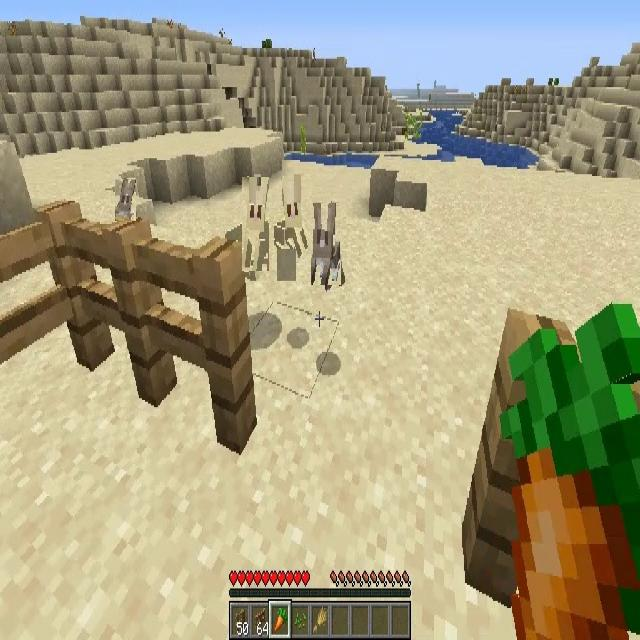rabbit: (242, 178, 269, 272), (311, 203, 341, 285), (276, 176, 305, 258), (115, 179, 136, 221)
